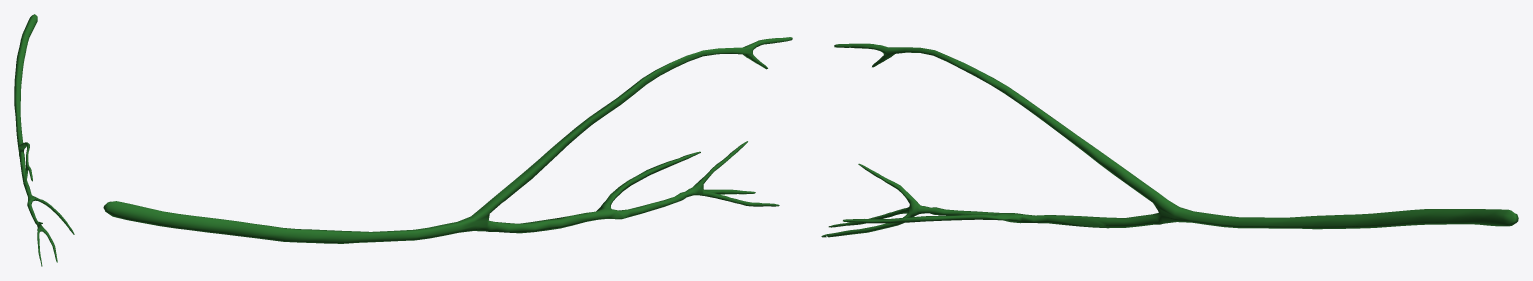
The model's file is Oculomotor_nerve_R.glb.
The picture shows the model from 3 angles, left to right: view 1: azimuth 30°, elevation 25°; view 2: azimuth 150°, elevation 25°; view 3: azimuth 270°, elevation 25°; orthographic projection. The views are drawn at different scales.
Visible parts, largest first — view 1: Oculomotor_nerve_R.001; view 2: Oculomotor_nerve_R.001; view 3: Oculomotor_nerve_R.001.
Boxes of the visible parts, box(x1,y1,x2,y2) form: Oculomotor_nerve_R.001: box(14, 14, 74, 266); Oculomotor_nerve_R.001: box(103, 37, 792, 243); Oculomotor_nerve_R.001: box(821, 43, 1518, 237).
Size of the model in its own units: 0.0455 by 0.0234 by 0.0785.
1 material, 1 textured.
